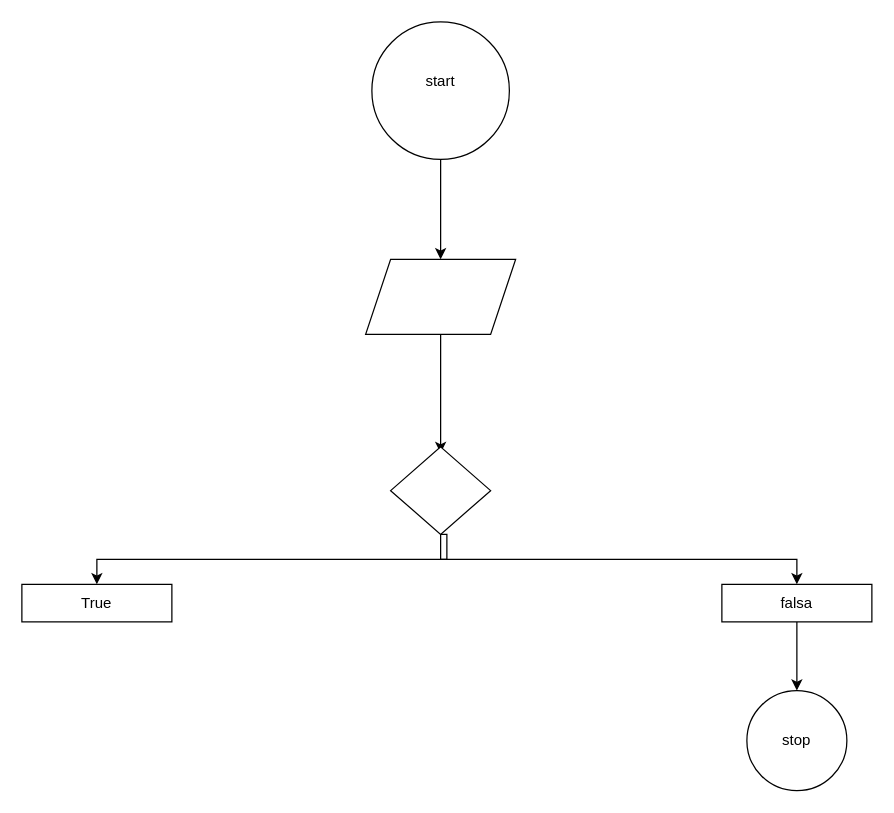
This 894x813 diagram has some shape labels left out. Each missing label, with the centre of its shape:
"otp verification" goes at [440,296].
"process" goes at [440,490].
